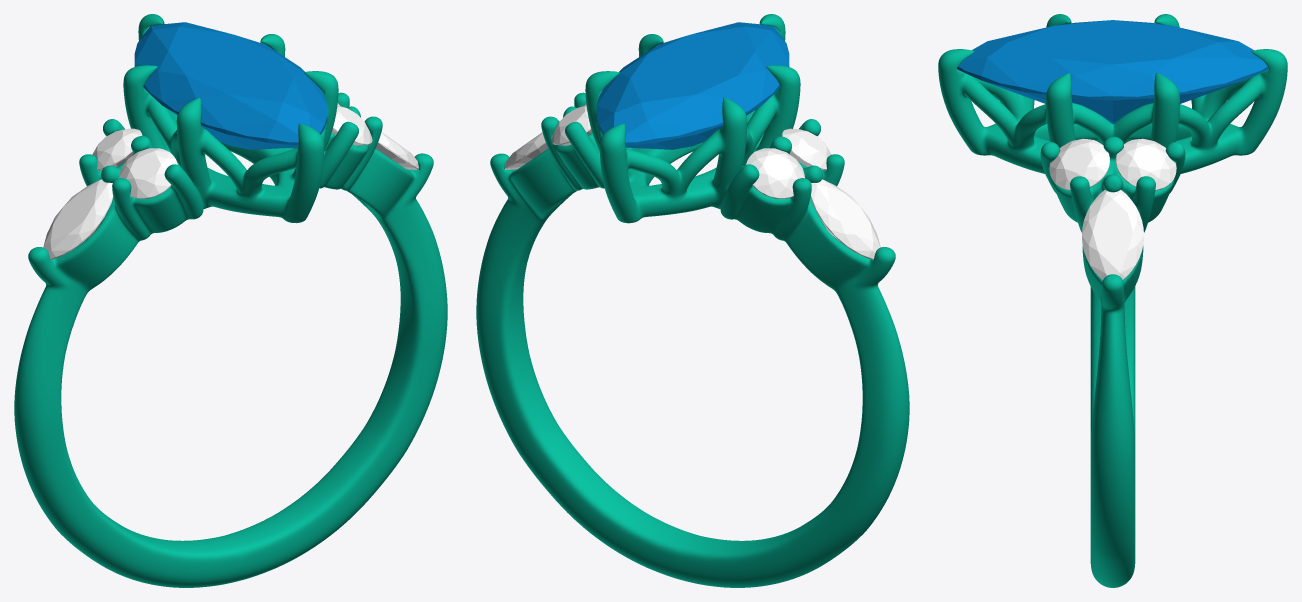
Rendered from BE1D4333_MQ_200ct_RENDER.glb.
3 views of the same model, side by side, from view 1: azimuth 30°, elevation 25°; view 2: azimuth 150°, elevation 25°; view 3: azimuth 270°, elevation 25° (orthographic).
Visible parts, largest first — view 1: Metal 01, CS_Diamond_Marquise, Diamond_Marquise_Side.004, Diamond_Round_Side.005, Diamond_Round_Side.003, Diamond_Marquise_Side.001, Diamond_Round_Side; view 2: Metal 01, CS_Diamond_Marquise, Diamond_Marquise_Side.004, Diamond_Round_Side.003, Diamond_Round_Side.005, Diamond_Marquise_Side.001, Diamond_Round_Side.002; view 3: Metal 01, CS_Diamond_Marquise, Diamond_Marquise_Side.001, Diamond_Round_Side, Diamond_Round_Side.002.
Boxes of the visible parts, x1,y1,x2,y2 form: Metal 01: (14, 14, 447, 587); CS_Diamond_Marquise: (134, 22, 327, 149); Diamond_Marquise_Side.004: (43, 179, 113, 259); Diamond_Round_Side.005: (119, 148, 177, 198); Diamond_Round_Side.003: (92, 128, 142, 170); Diamond_Marquise_Side.001: (364, 121, 418, 169); Diamond_Round_Side: (332, 105, 372, 145); Metal 01: (476, 14, 909, 587); CS_Diamond_Marquise: (596, 22, 789, 149); Diamond_Marquise_Side.004: (810, 179, 880, 259); Diamond_Round_Side.003: (746, 148, 804, 198); Diamond_Round_Side.005: (781, 128, 831, 170); Diamond_Marquise_Side.001: (505, 121, 559, 169); Diamond_Round_Side.002: (551, 105, 591, 145); Metal 01: (938, 14, 1287, 587); CS_Diamond_Marquise: (957, 20, 1268, 123); Diamond_Marquise_Side.001: (1082, 190, 1143, 279); Diamond_Round_Side: (1049, 138, 1109, 190); Diamond_Round_Side.002: (1116, 138, 1176, 190).
Size of the model in its own units: 20.1 by 23.14 by 14.04.
